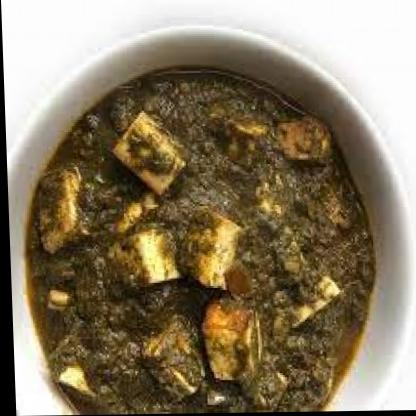palak_paneer: (17, 64, 377, 416)
